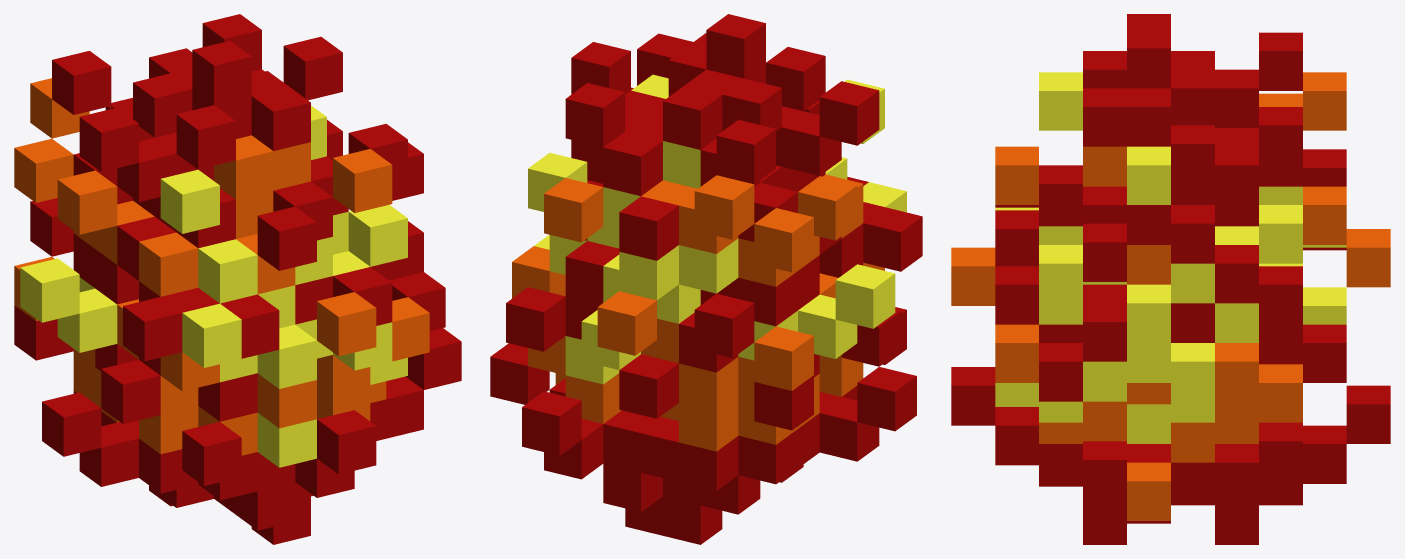
The model's file is fire 3.obj.
3 views of the same model, side by side, from view 1: azimuth 30°, elevation 25°; view 2: azimuth 150°, elevation 25°; view 3: azimuth 270°, elevation 25° (orthographic).
Size of the model in its own units: 1 by 1.2 by 1.
Materials: 1 (1 with a texture image).
